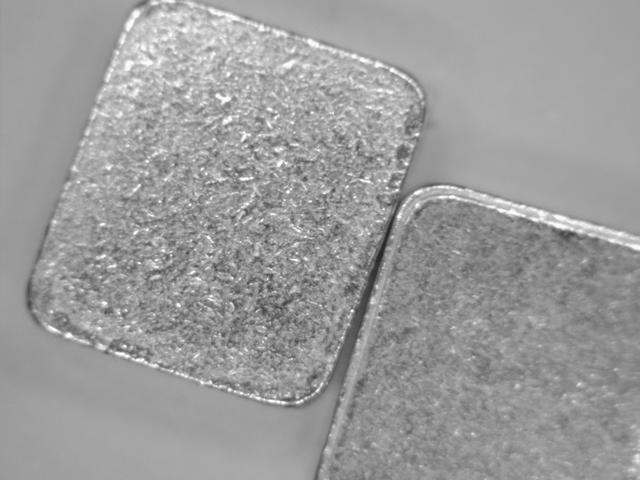ok: (14, 2, 331, 405)
